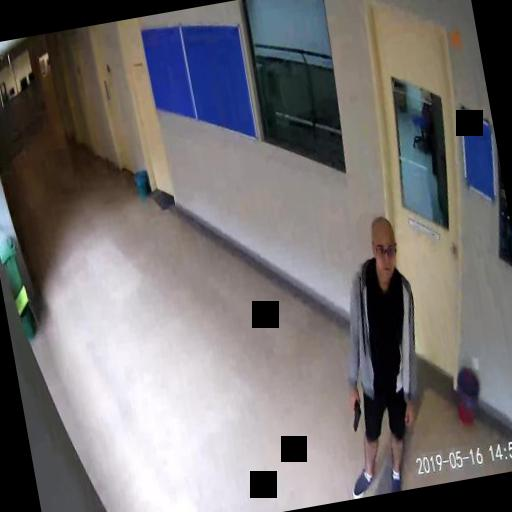Handgun: (346, 394, 362, 430)
